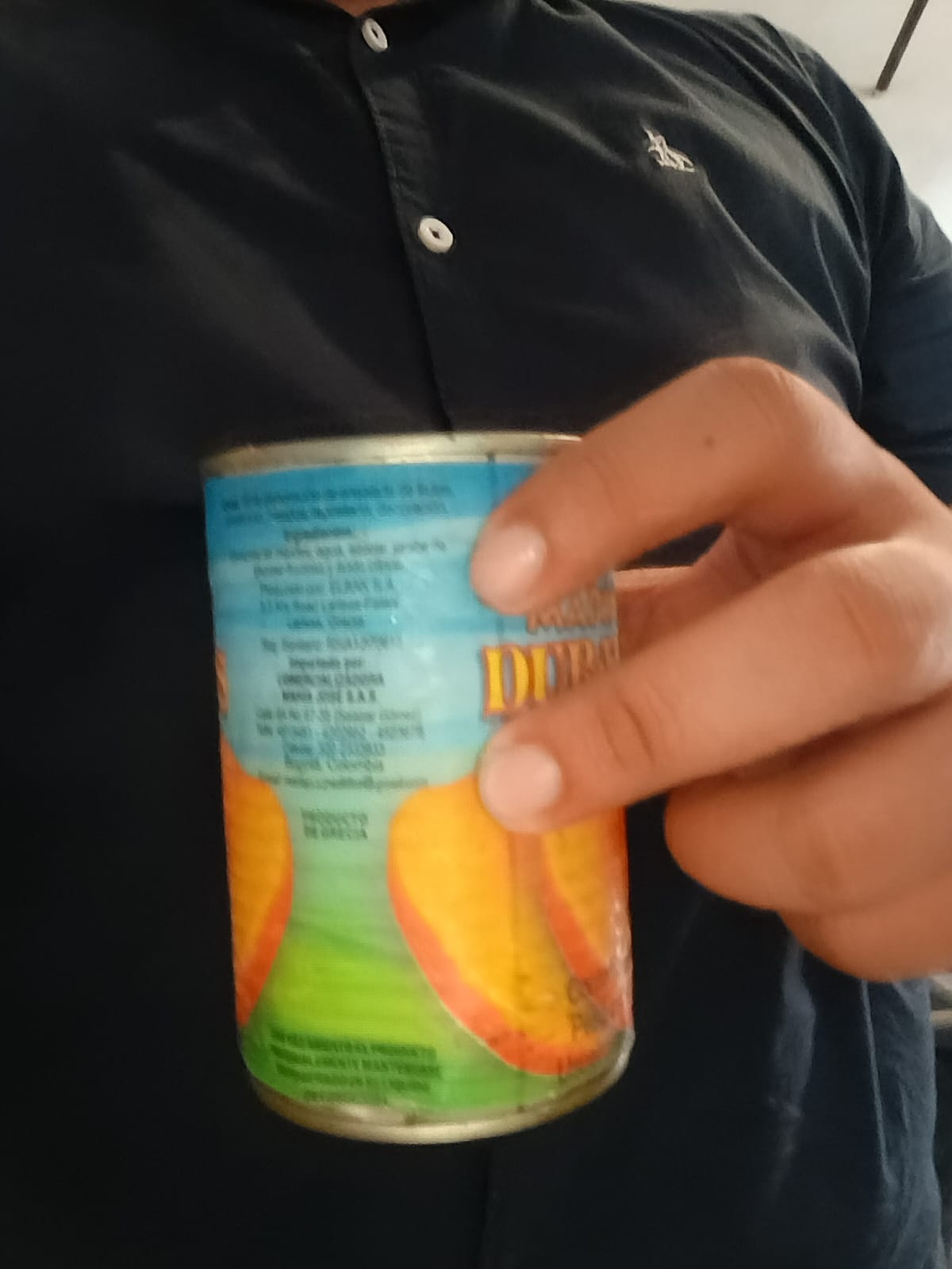Metal: (200, 432, 643, 1149)
